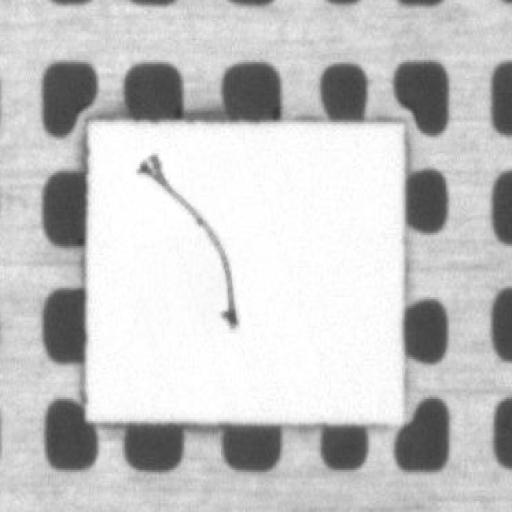DIE_INK: (136, 149, 237, 330)
